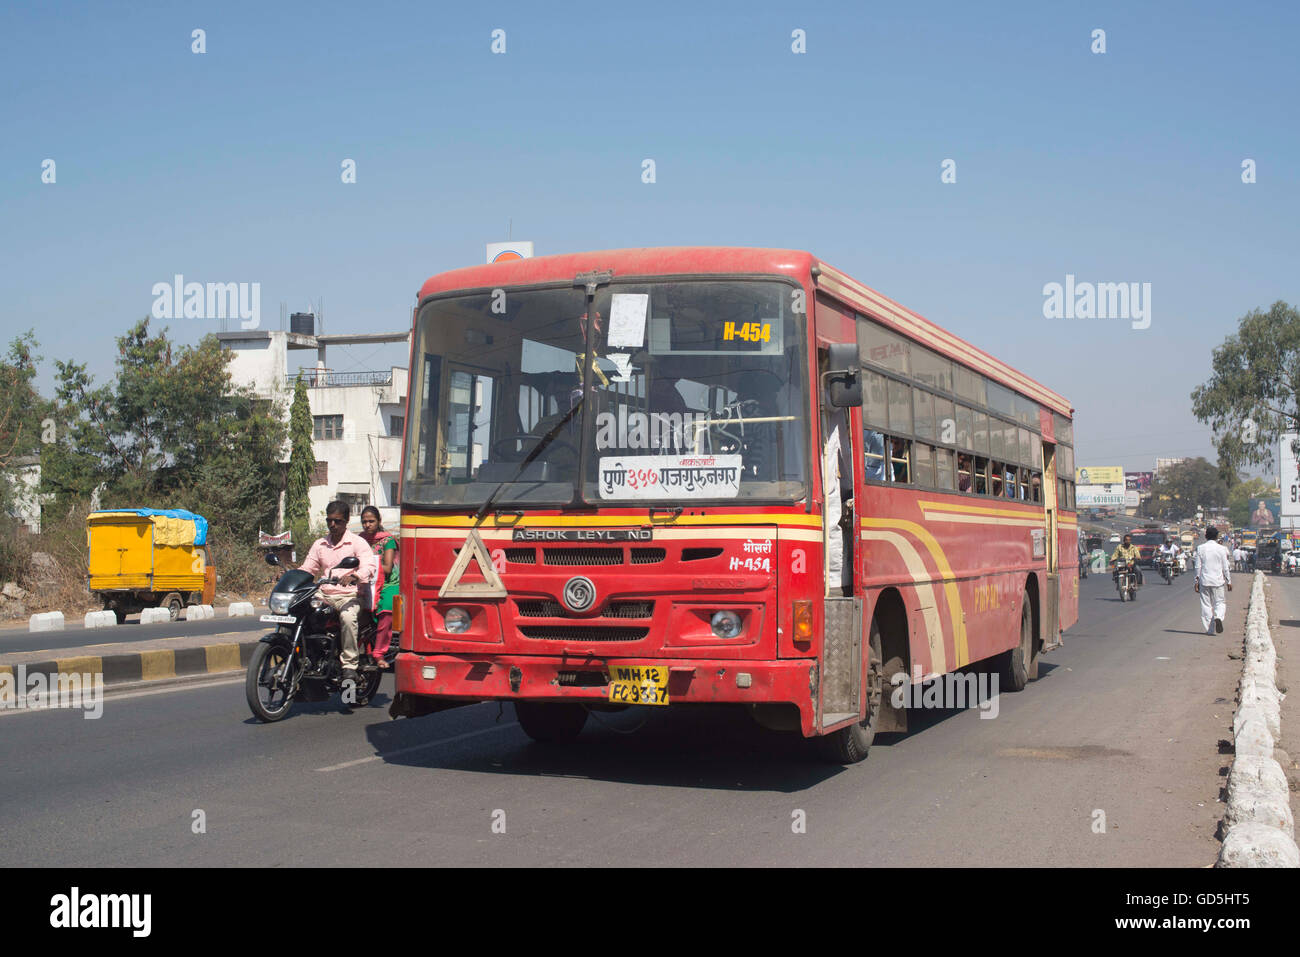bike: (242, 488, 380, 720), (1108, 533, 1146, 605), (1153, 528, 1188, 587)
bus: (398, 258, 1104, 759)
